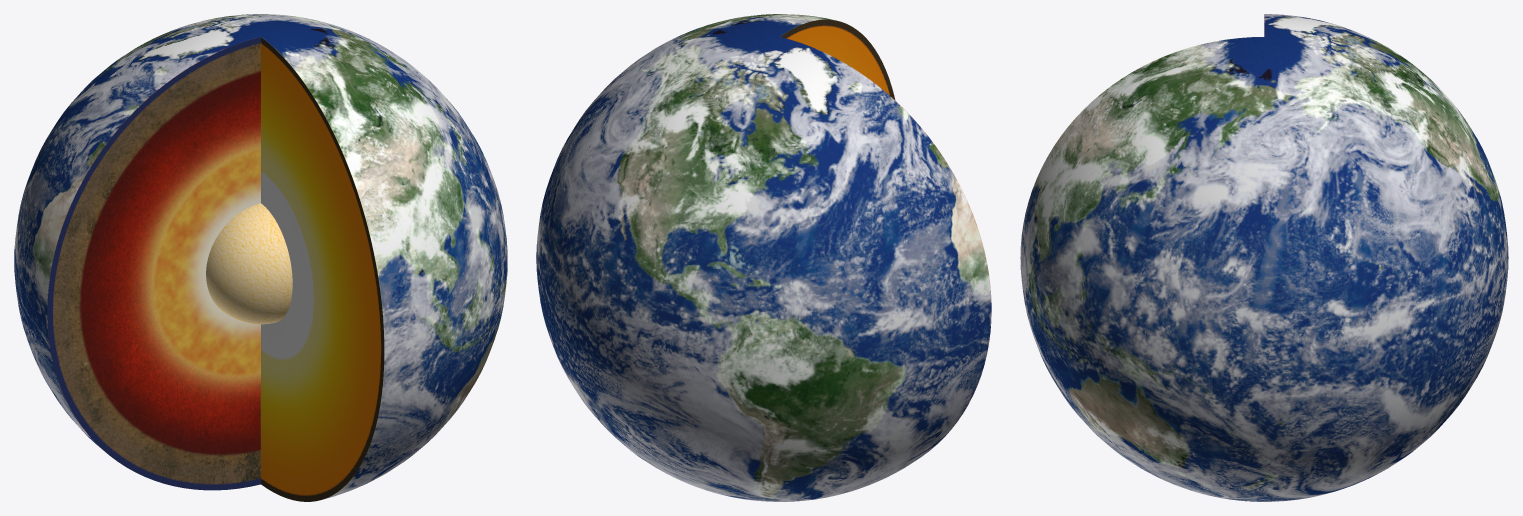
File: EarthCore.fbx
The picture shows the model from 3 angles, left to right: view 1: azimuth 30°, elevation 25°; view 2: azimuth 150°, elevation 25°; view 3: azimuth 270°, elevation 25°; orthographic projection.
Parts seen in each view (by area): view 1: node_id30; view 2: node_id30; view 3: node_id30.
Part boxes in pixels (box(x1,y1,x2,y2)): node_id30: box(14, 14, 507, 501); node_id30: box(536, 14, 991, 501); node_id30: box(1020, 14, 1508, 501).
Size of the model in its own units: 0.512 by 0.512 by 0.512.
Materials: 1 (1 with a texture image).
